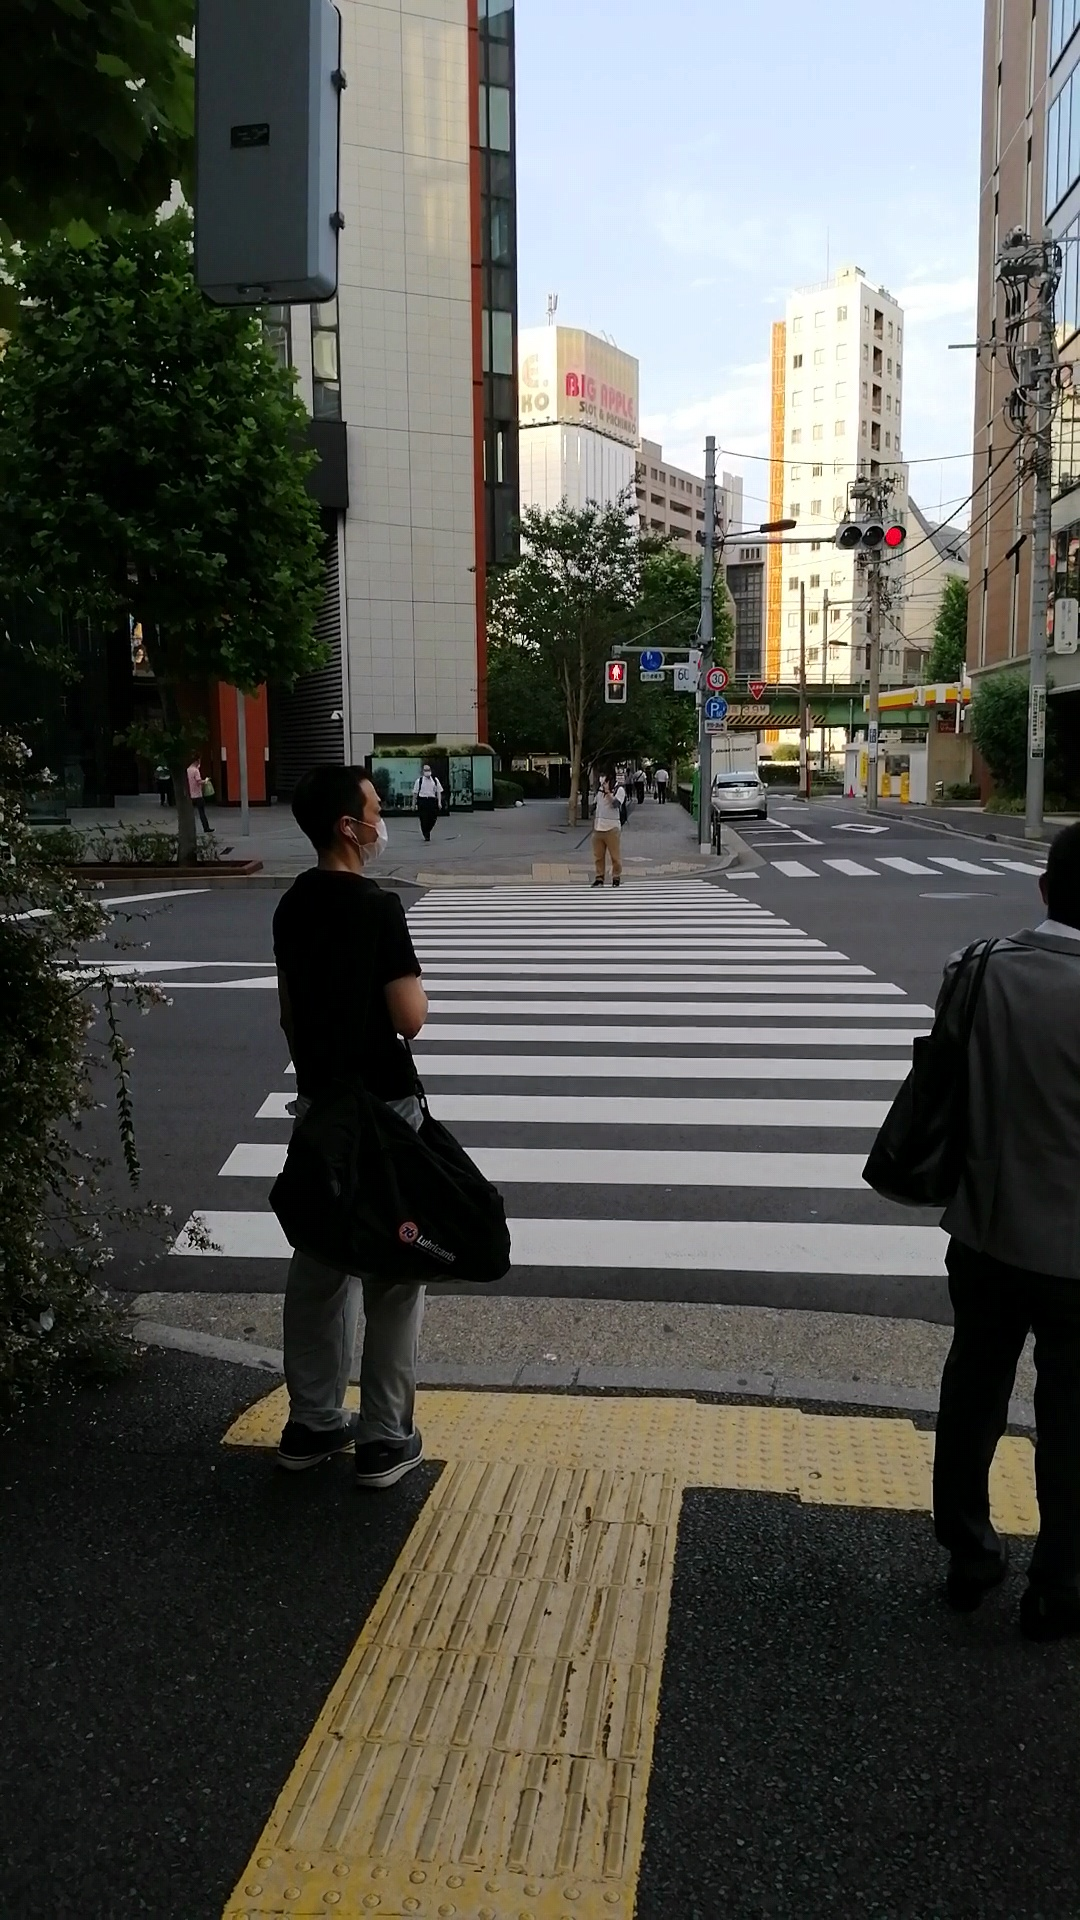red: (603, 659, 626, 703)
